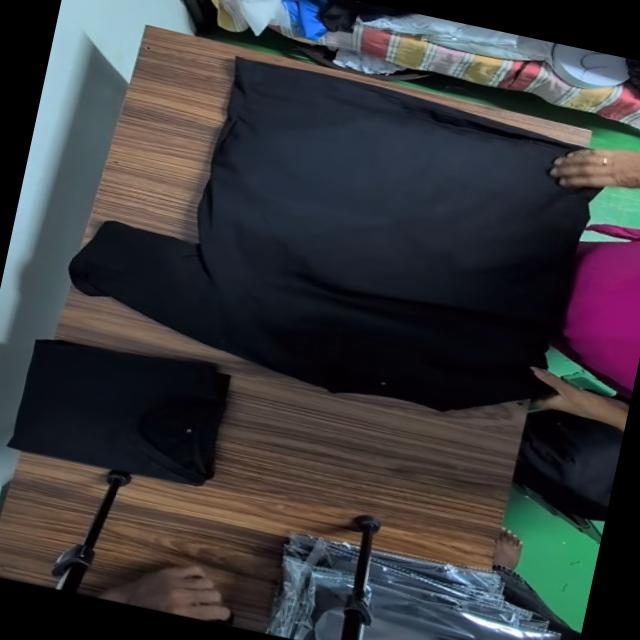new-garment: (70, 58, 592, 410)
